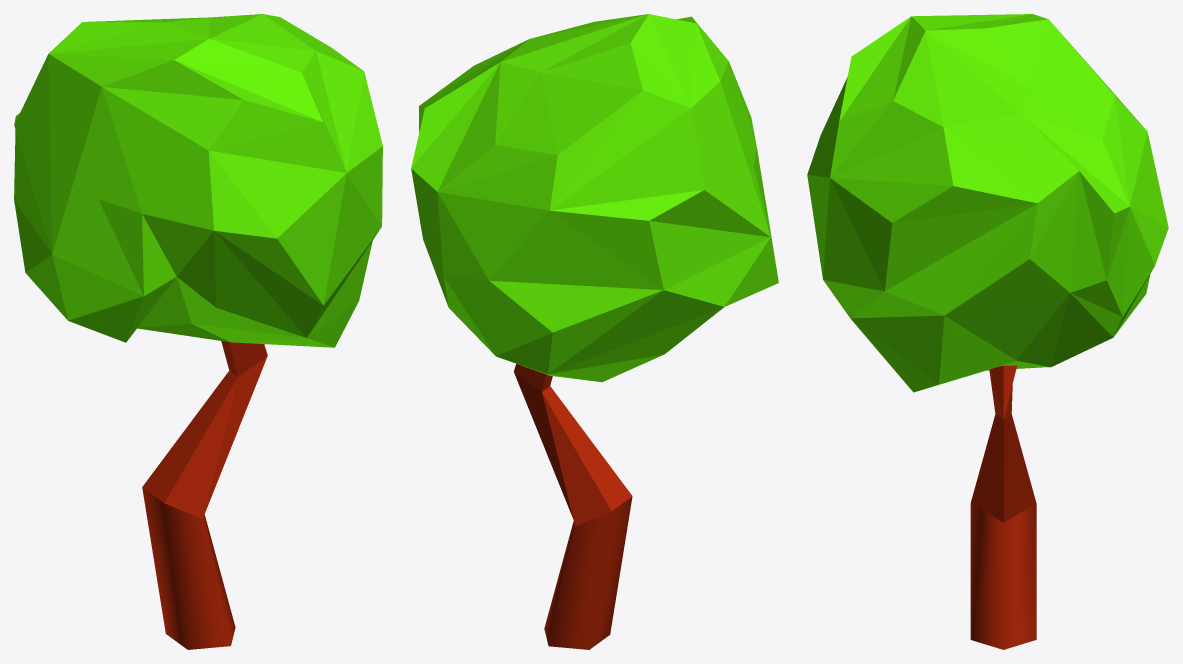
File: flower 1.FBX
The picture shows the model from 3 angles, left to right: view 1: azimuth 30°, elevation 25°; view 2: azimuth 150°, elevation 25°; view 3: azimuth 270°, elevation 25°; orthographic projection. The views are drawn at different scales.
Visible parts, largest first — view 1: Hedra001, Cylinder002; view 2: Hedra001, Cylinder002; view 3: Hedra001, Cylinder002.
Part boxes in pixels (left/top/right/bottom): Hedra001: left=14, top=14, right=382, bottom=347; Cylinder002: left=142, top=341, right=267, bottom=649; Hedra001: left=411, top=14, right=778, bottom=382; Cylinder002: left=514, top=364, right=632, bottom=649; Hedra001: left=807, top=14, right=1168, bottom=392; Cylinder002: left=970, top=365, right=1036, bottom=649.
Size of the model in its own units: 65.79 by 121 by 67.59.
